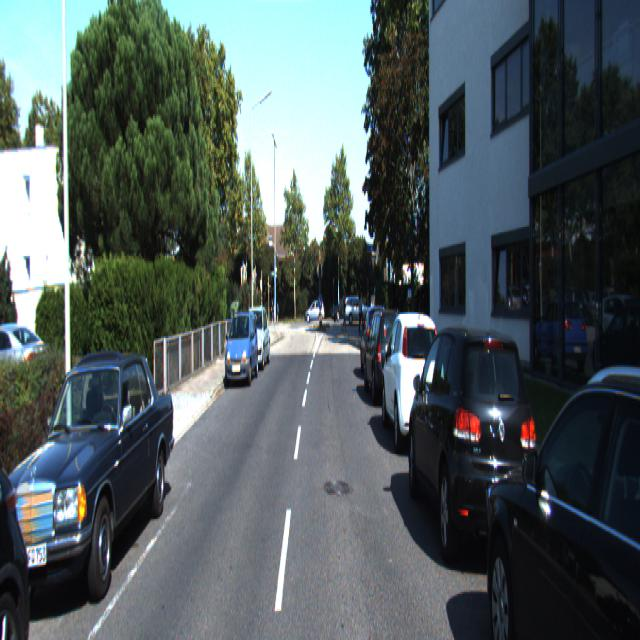Car: (0, 341, 179, 622), (482, 334, 639, 638), (406, 311, 541, 583), (0, 373, 46, 639), (381, 306, 447, 456), (363, 304, 410, 408), (224, 307, 258, 386), (359, 303, 392, 381), (240, 304, 271, 372)
